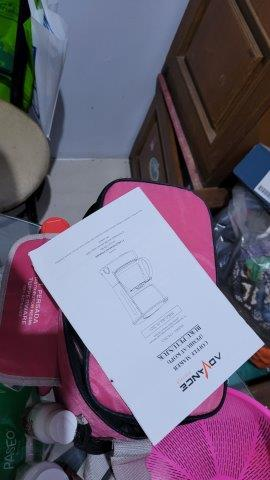kertas: (29, 187, 266, 446)
